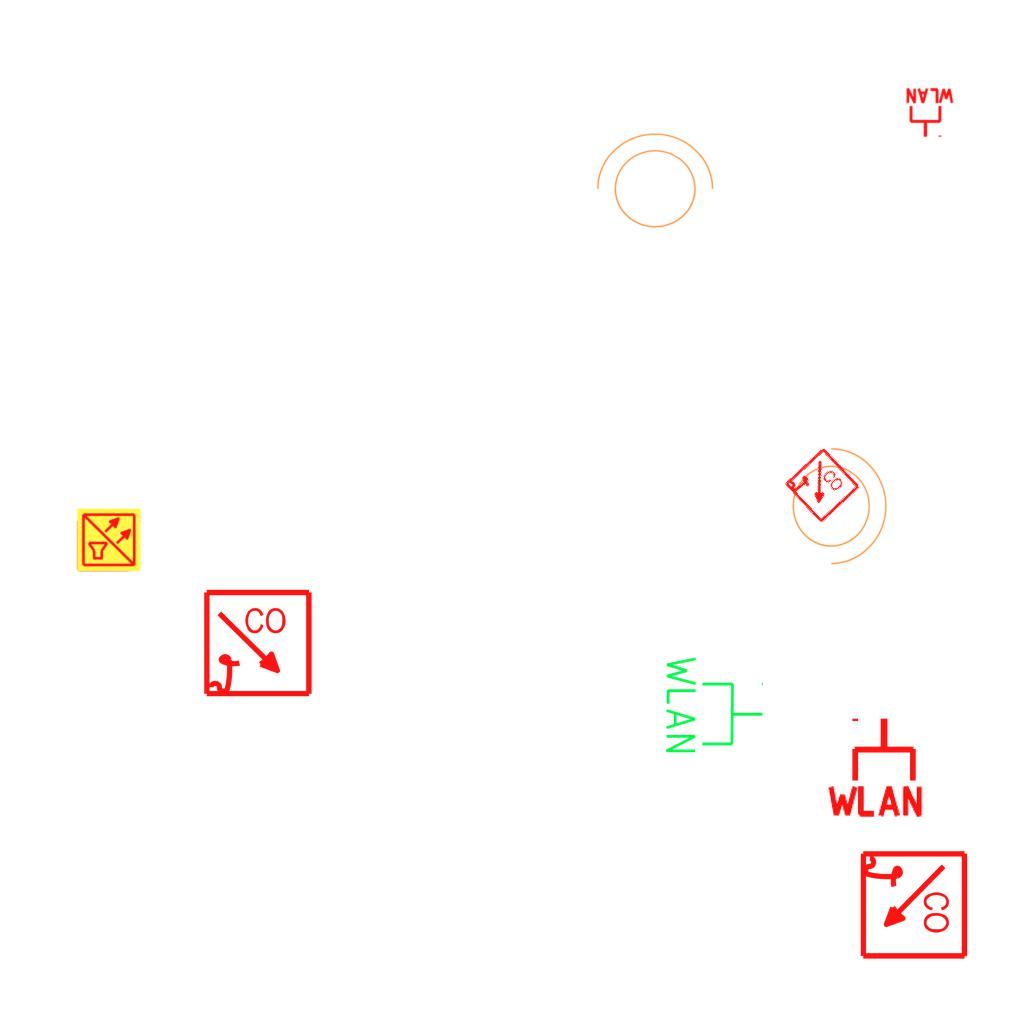OKW_Multisensormelder_(Kombination_optischer_Rauch-Kahlenmonoxid_Waerme-Melder): (76, 507, 142, 573)
ROA_Rauchmelder_optisch_mit_Signalgeber_(Sockelsirene): (856, 849, 969, 962), (202, 588, 315, 701), (782, 446, 862, 526)
Scheinwerfer_fuer_Alarmbeleuchtung: (780, 437, 892, 569), (586, 128, 718, 240)
WLAN: (662, 652, 766, 757), (823, 714, 927, 819), (904, 87, 956, 139)
